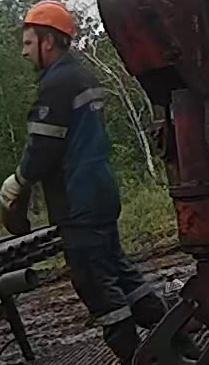gloves: (0, 170, 31, 219)
helmet: (22, 0, 77, 38)
vest: (33, 64, 122, 225)
